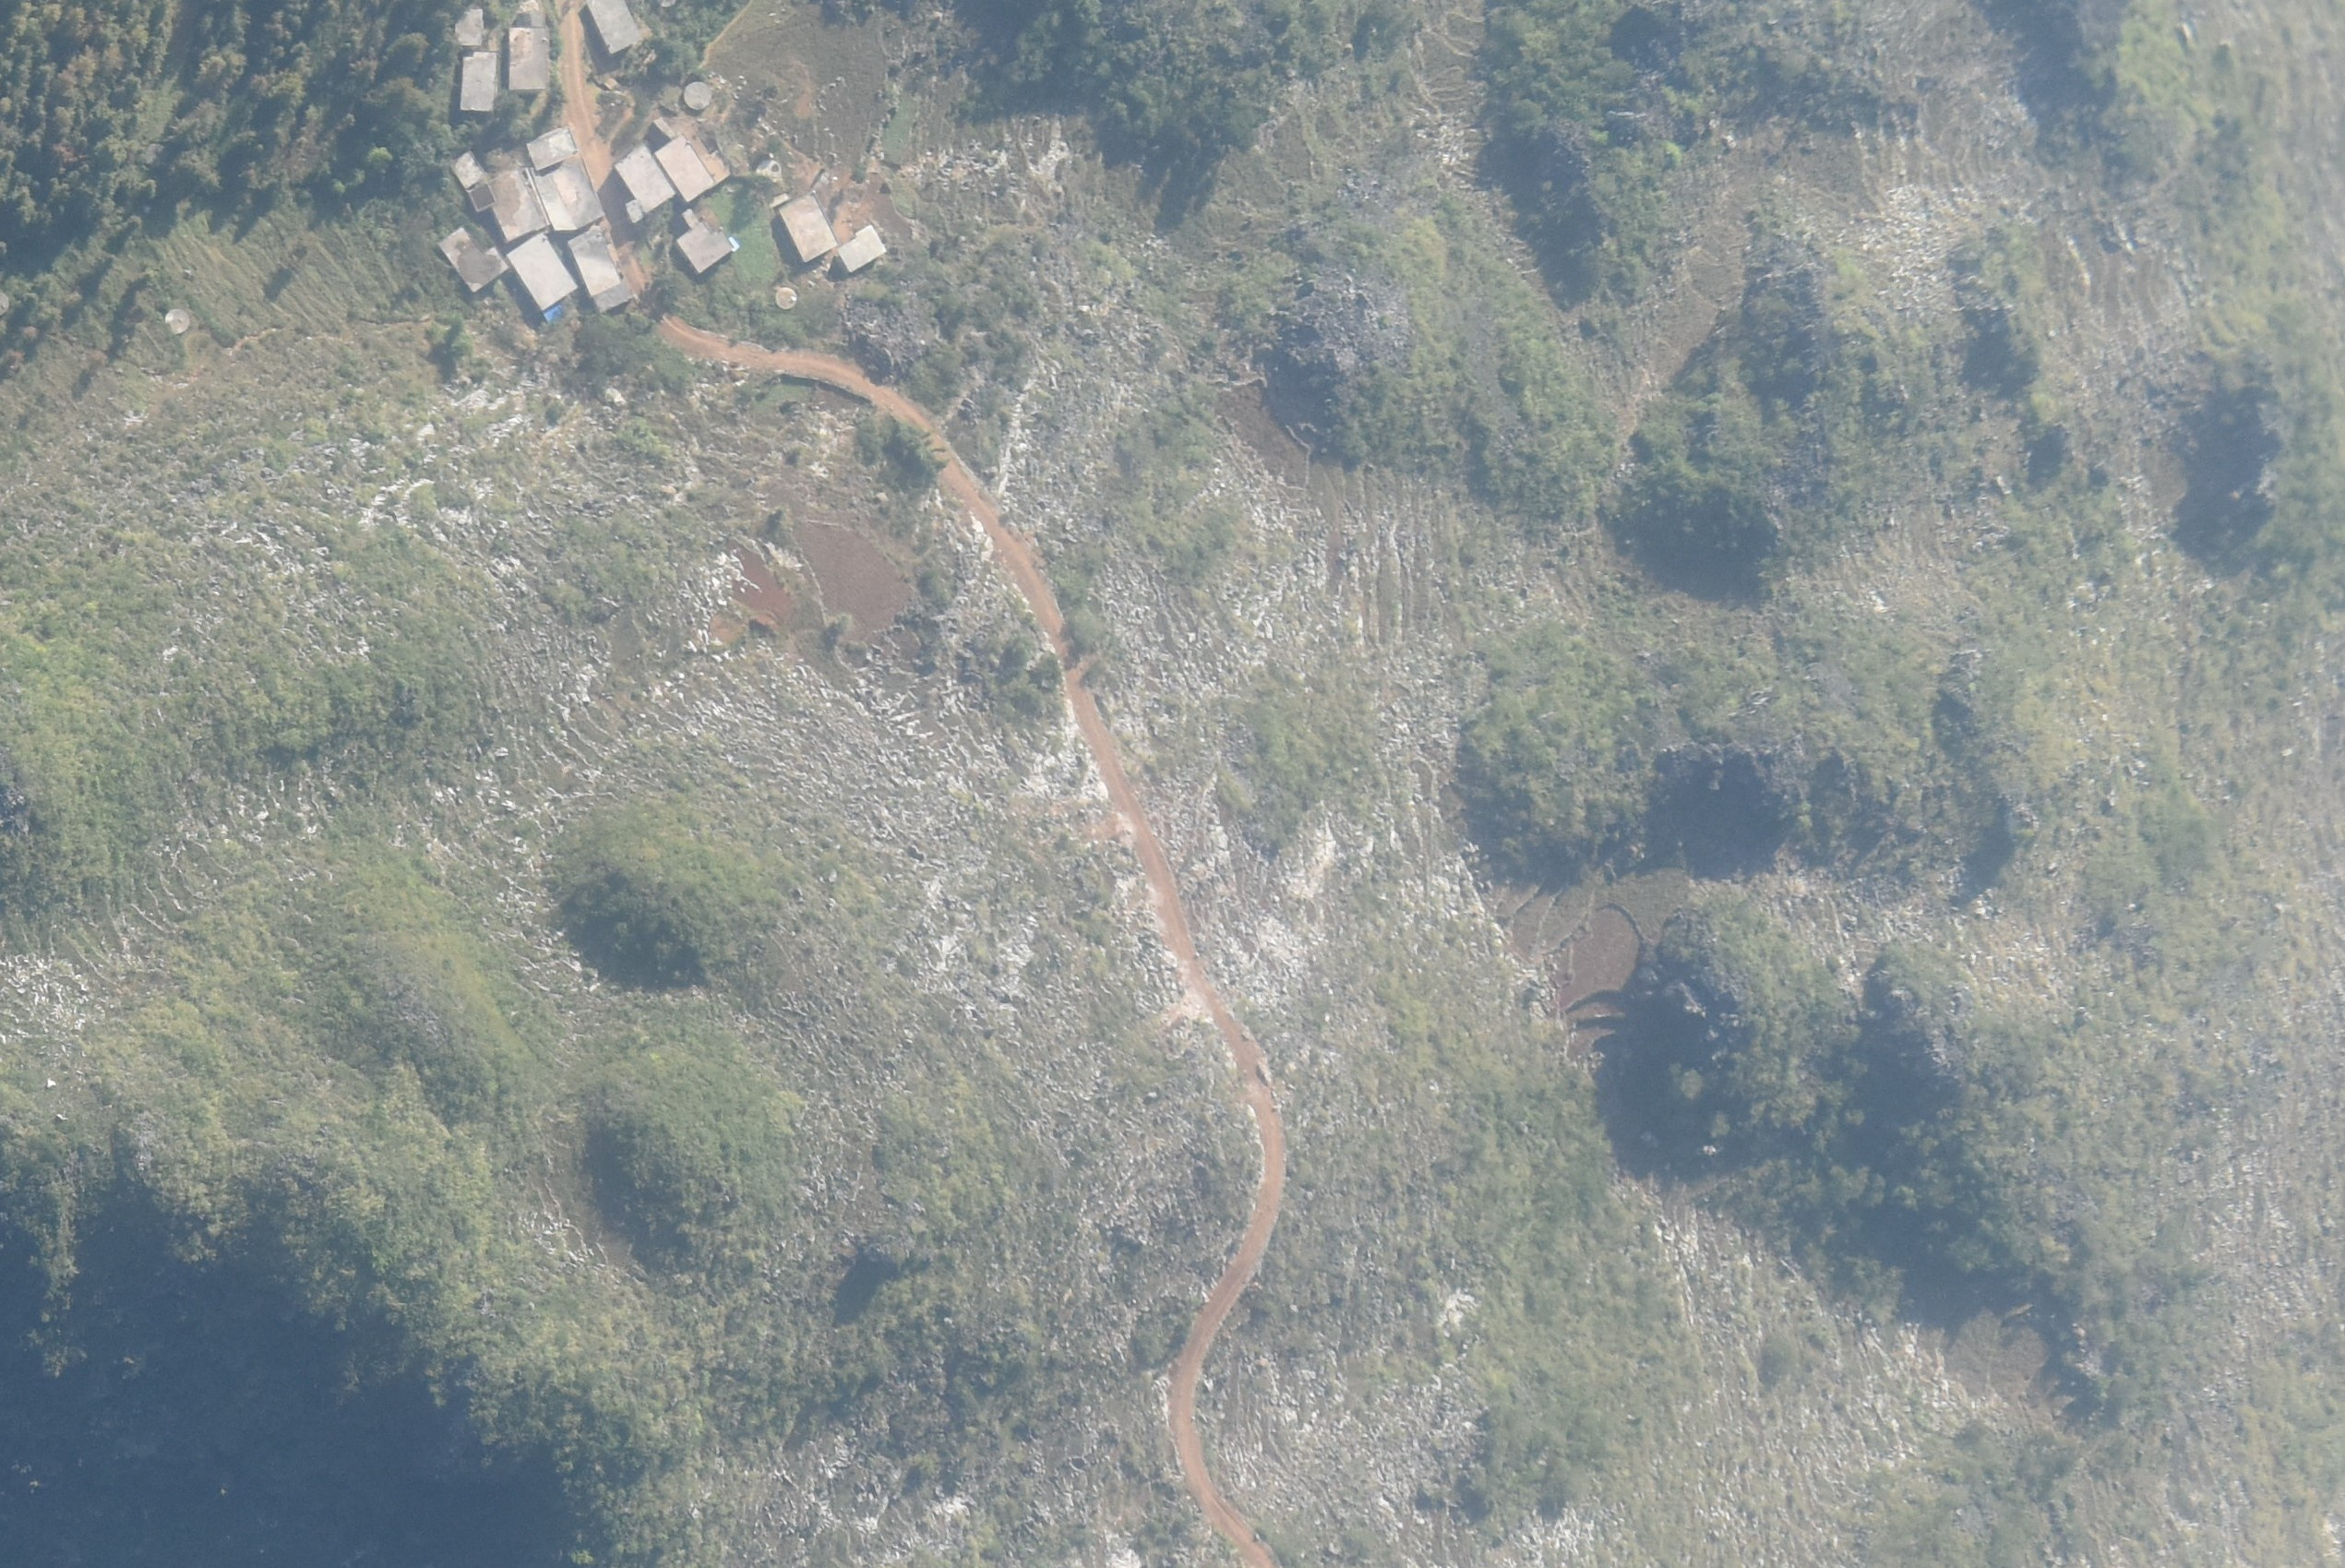building: (451, 147, 548, 241), (527, 122, 605, 231), (651, 119, 729, 202), (567, 228, 634, 313), (508, 233, 577, 309), (614, 142, 676, 223), (437, 225, 508, 294), (779, 194, 839, 264), (677, 208, 732, 274), (507, 27, 549, 88), (837, 223, 886, 275), (461, 48, 497, 113), (588, 10, 641, 52), (451, 10, 484, 44)
prefabricated-house: (541, 306, 561, 322)
well: (685, 81, 712, 111), (163, 304, 189, 334), (754, 160, 782, 180), (774, 289, 796, 310)
